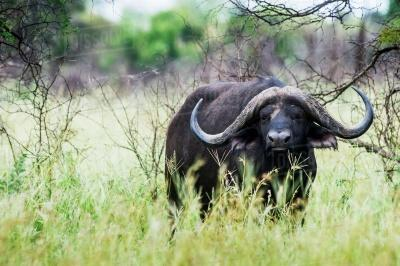buffalo: (164, 76, 372, 218)
